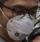with_mask: (2, 2, 40, 42)
